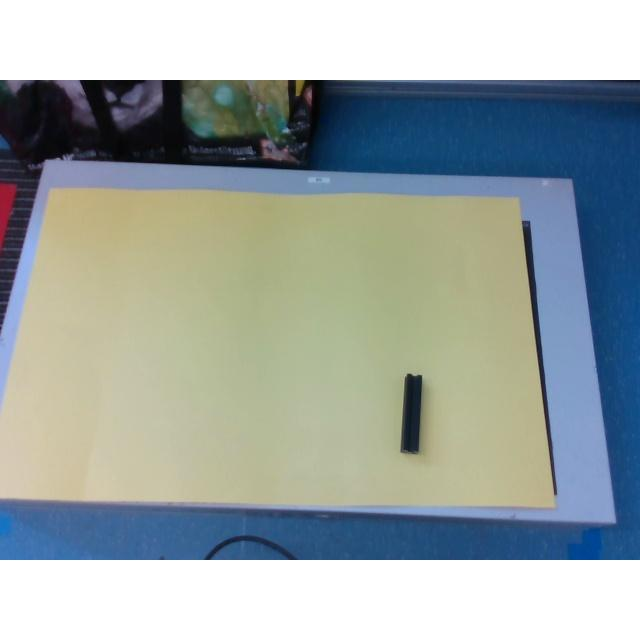F20_20_B: (400, 374, 420, 452)
